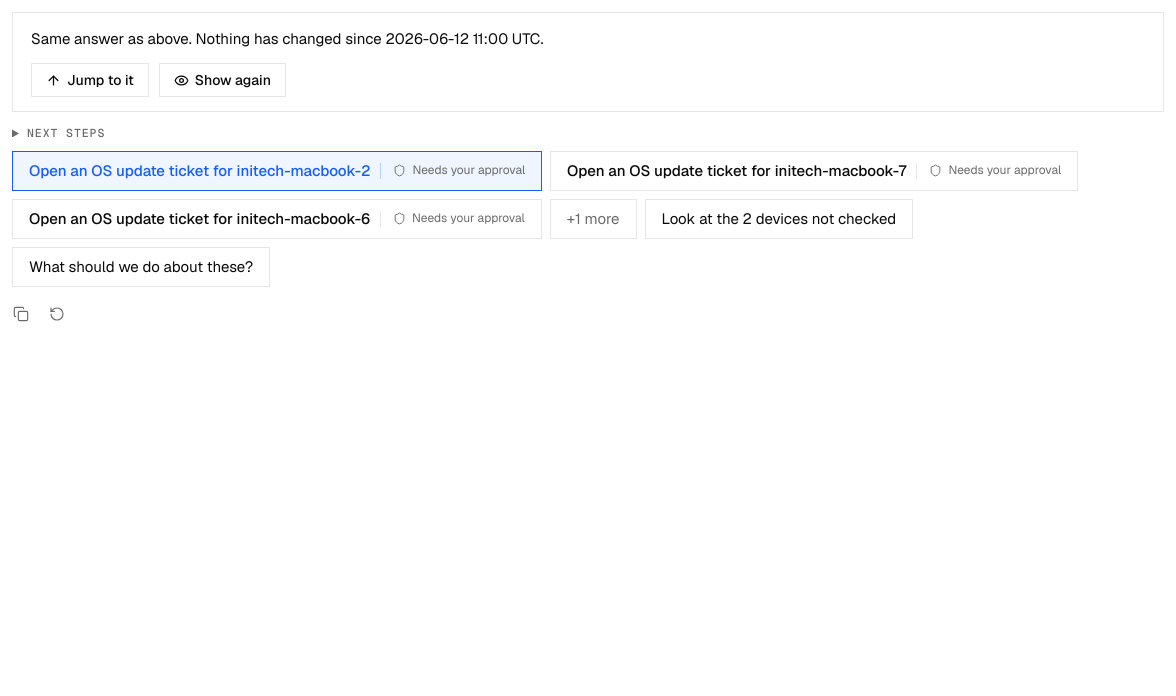
Test case: a repeated answer › shows the whole answer again on request
Click the button "Show again" at (222, 80), box [159, 63, 286, 97]
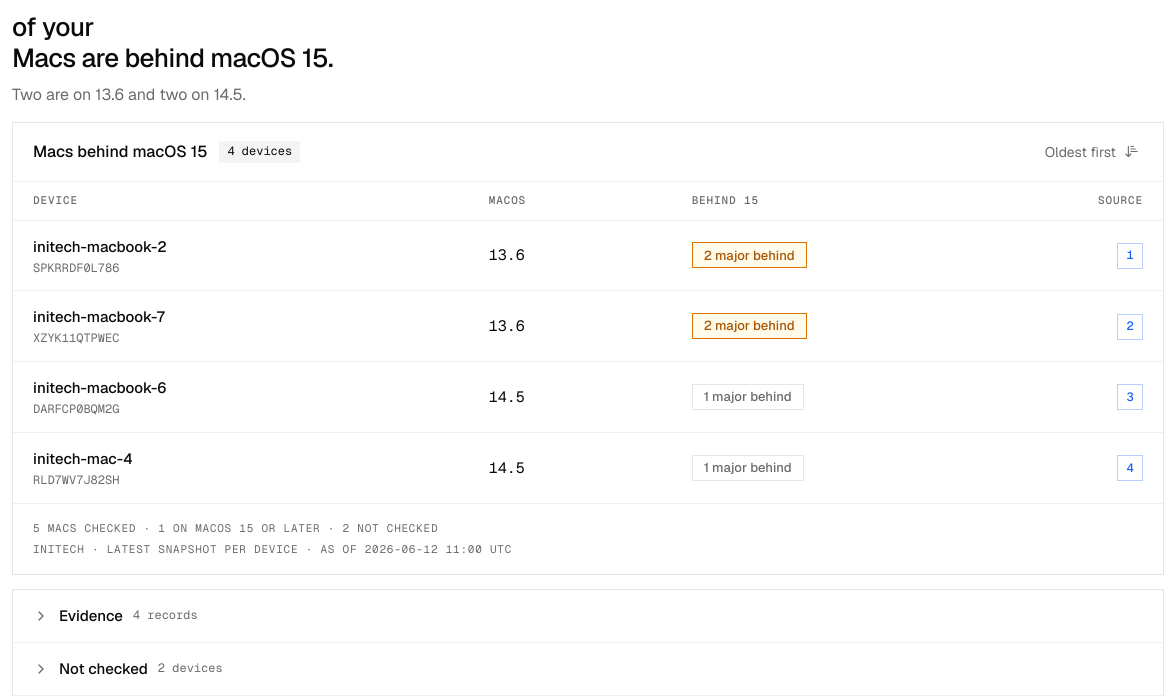
Result: the text "Same answer as above" is gone
Result: the table "Macs behind macOS 15" is shown at [13, 123, 1163, 503]
